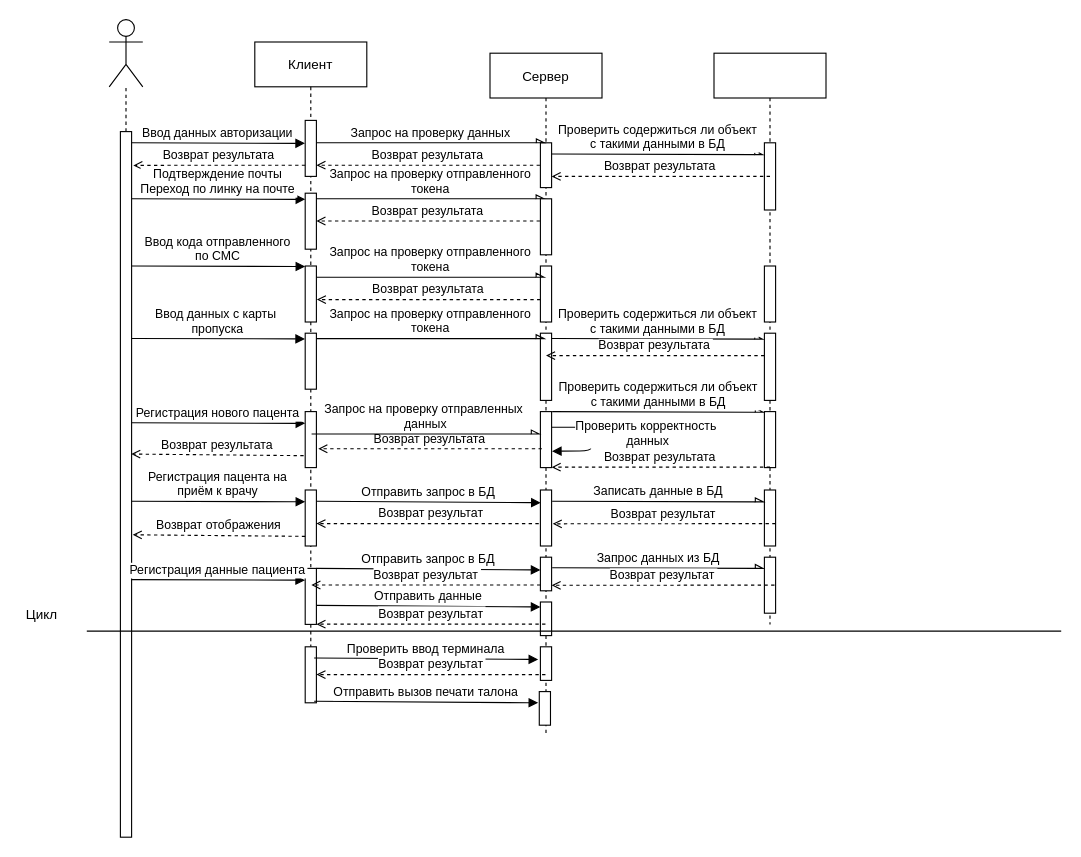
This 1081x857 diagram has some shape labels left out. Here are the shapes that lost their labels. From the top down, the centre of each, then its label:
At point (125, 52): "Пользователь".
At point (769, 338): "БД".
